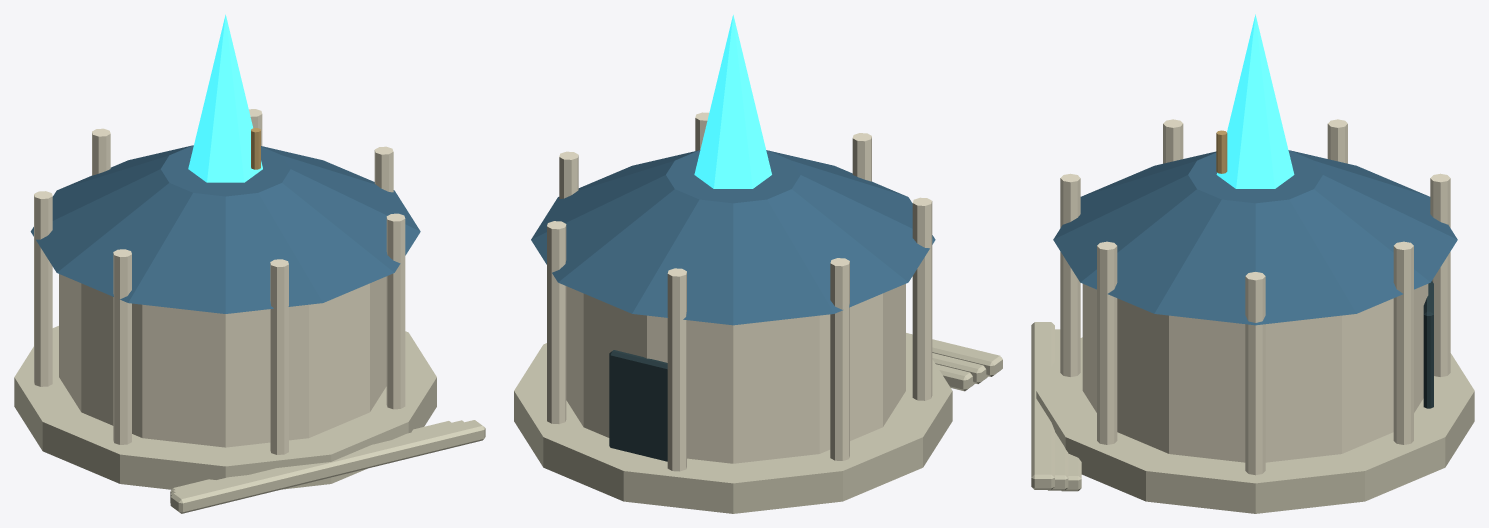
File: level_22.glb
3 views of the same model, side by side, from view 1: azimuth 30°, elevation 25°; view 2: azimuth 150°, elevation 25°; view 3: azimuth 270°, elevation 25° (orthographic). The views are drawn at different scales.
Parts seen in each view (by area): view 1: mage_guild — level 22; view 2: mage_guild — level 22; view 3: mage_guild — level 22.
Part boxes in pixels (x1,y1,x2,y2): mage_guild — level 22: (14,14,485,513); mage_guild — level 22: (514,15,1002,513); mage_guild — level 22: (1031,14,1474,513).
Size of the model in its own units: 5.2 by 5.33 by 5.26.
